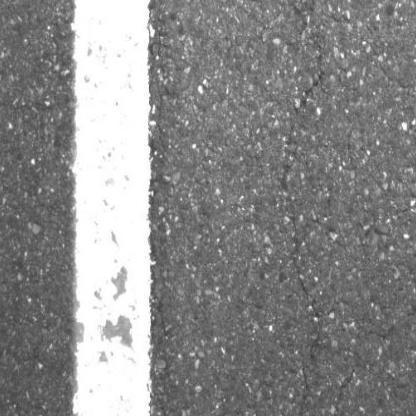Cracks: (280, 65, 330, 365), (300, 0, 315, 6)
